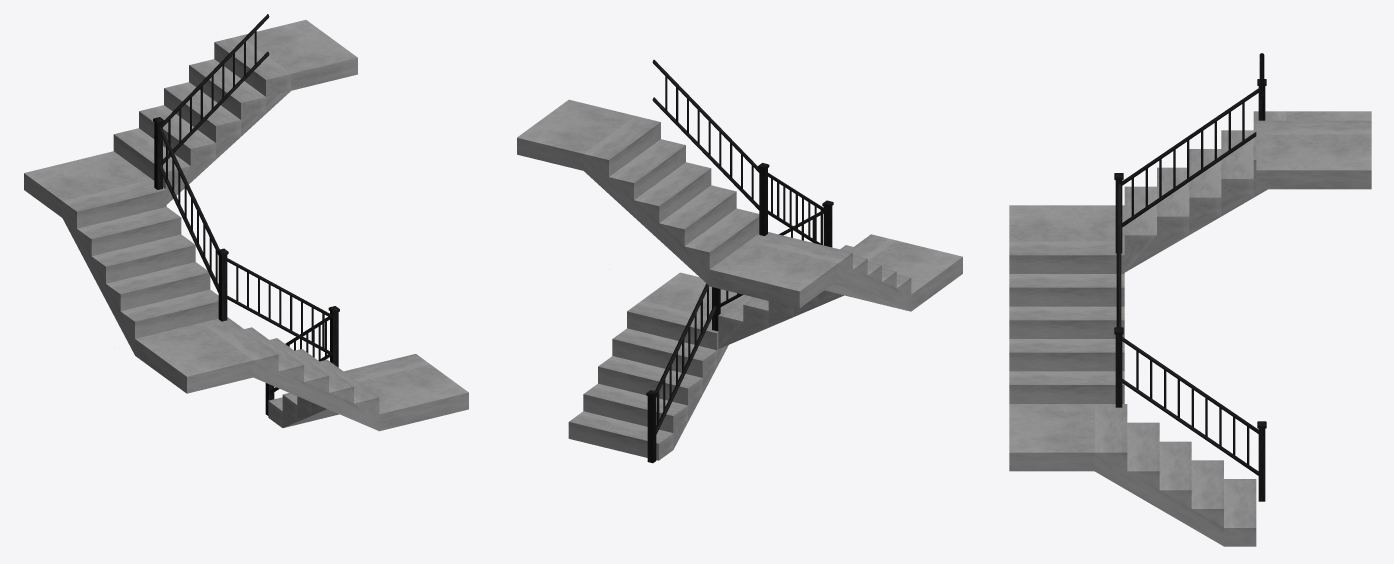
The model's file is staircase_stackable_mid_textured_2.fbx.
3 views of the same model, side by side, from view 1: azimuth 30°, elevation 25°; view 2: azimuth 150°, elevation 25°; view 3: azimuth 270°, elevation 25° (orthographic). The views are drawn at different scales.
Visible parts, largest first — view 1: stairs.002, stairs.003, stairs.001, stairs, raling.003, raling.002, raling.001, post.002; view 2: stairs.003, stairs, stairs.002, stairs.001, raling.003, raling, raling.002, post, post.003; view 3: stairs.001, stairs, stairs.002, stairs.003, raling, raling.002, raling.001, post, post.001.
Boxes of the visible parts, x1,y1,x2,y2 form: stairs.002: (24,151,218,355); stairs.003: (113,20,357,204); stairs.001: (135,317,379,430); stairs: (268,354,468,431); raling.003: (163,14,269,164); raling.002: (158,127,219,292); raling.001: (227,258,332,355); post.002: (218,254,227,321); stairs.003: (517,99,759,285); stairs: (568,272,745,460); stairs.002: (709,232,911,311); stairs.001: (718,234,962,348); raling.003: (652,59,759,210); raling: (655,283,716,434); raling.002: (768,173,828,244); post: (647,395,656,463); post.003: (759,168,767,235); stairs.001: (1009,205,1124,403); stairs: (1009,404,1256,546); stairs.002: (1124,111,1371,272); stairs.003: (1256,120,1371,189); raling: (1122,337,1258,475); raling.002: (1122,88,1258,227); raling.001: (1116,184,1121,327); post: (1258,428,1265,501); post.001: (1115,334,1122,407).
Size of the model in its own units: 328 by 427 by 328.
Materials: 3 (3 with a texture image).
